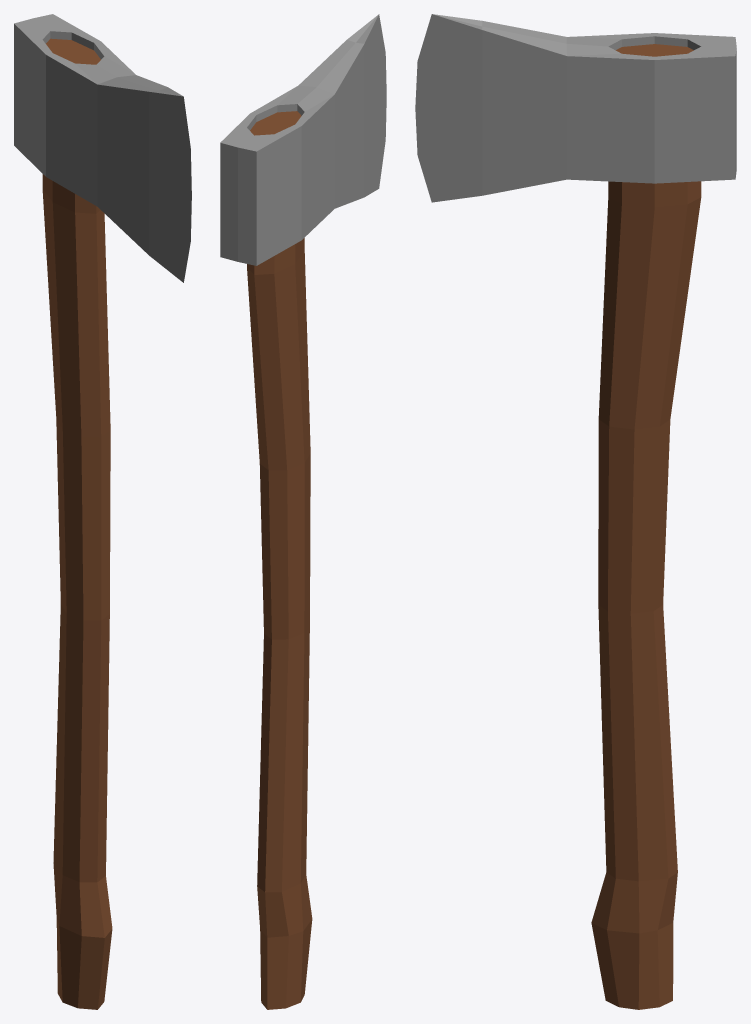
Rendered from axe01.obj.
3 renders of one model, left to right at view 1: azimuth 30°, elevation 25°; view 2: azimuth 150°, elevation 25°; view 3: azimuth 270°, elevation 25°, orthographic. The views are drawn at different scales.
Parts seen in each view (by area): view 1: Cylinder; view 2: Cylinder; view 3: Cylinder.
Part boxes in pixels (left/top/right/bottom): Cylinder: left=14, top=14, right=191, bottom=1009; Cylinder: left=220, top=14, right=386, bottom=1009; Cylinder: left=415, top=14, right=736, bottom=1009.
Size of the model in its own units: 0.0338 by 0.5741 by 0.1694.
1 material, 1 textured.
